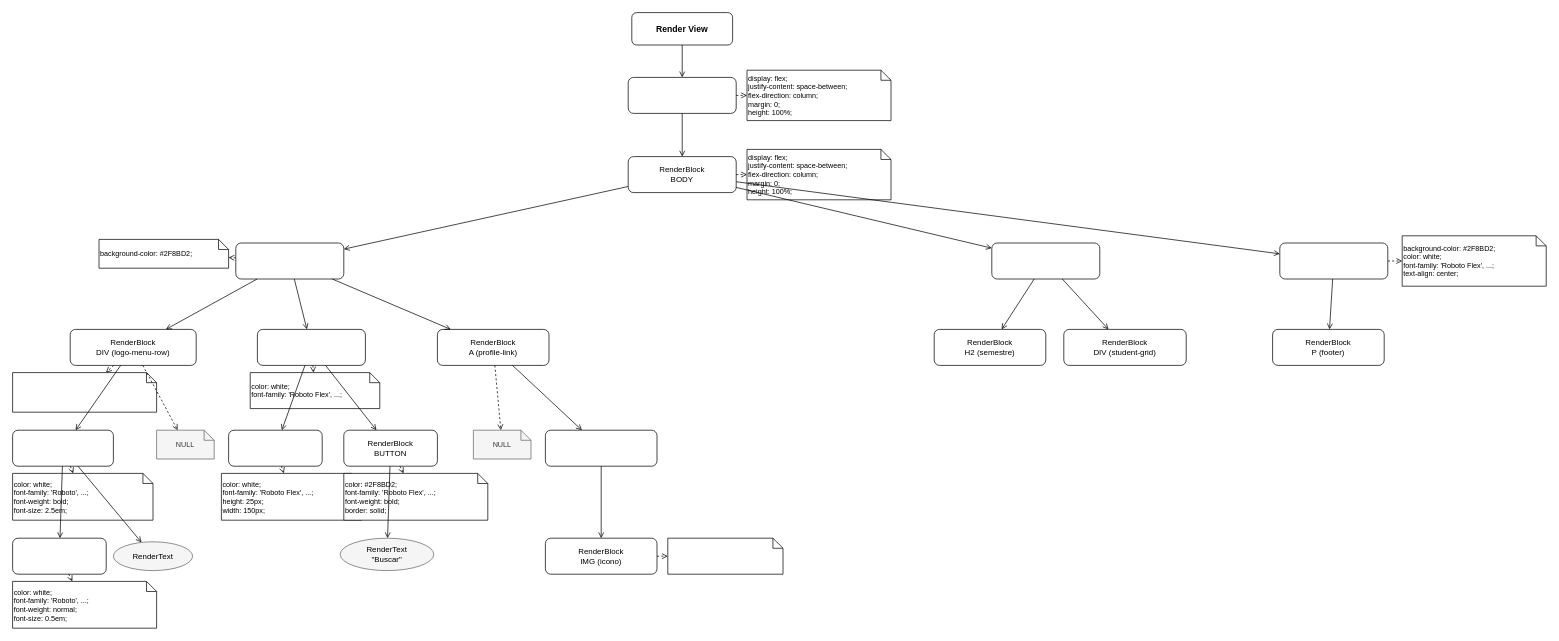
The diagram is 1559 pixels wide and 641 high, and some of its shapes have lost their labels. Each missing label, with the centre of its shape:
display: flex; align-items: center; justify-content: space-between;: the point at 84,392
margin: 0 auto; height: 70%;: the point at 725,555
RenderBlock A (logo): the point at 62,447
RenderBlock DIV (user-icon): the point at 601,447
RenderBlock FOOTER: the point at 1333,260
RenderBlock HEADER: the point at 289,260
RenderBlock HTML: the point at 681,95
RenderBlock INPUT: the point at 275,447
RenderBlock NAV: the point at 311,347
RenderBlock SECTION: the point at 1045,260
RenderBlock SPAN: the point at 59,555
